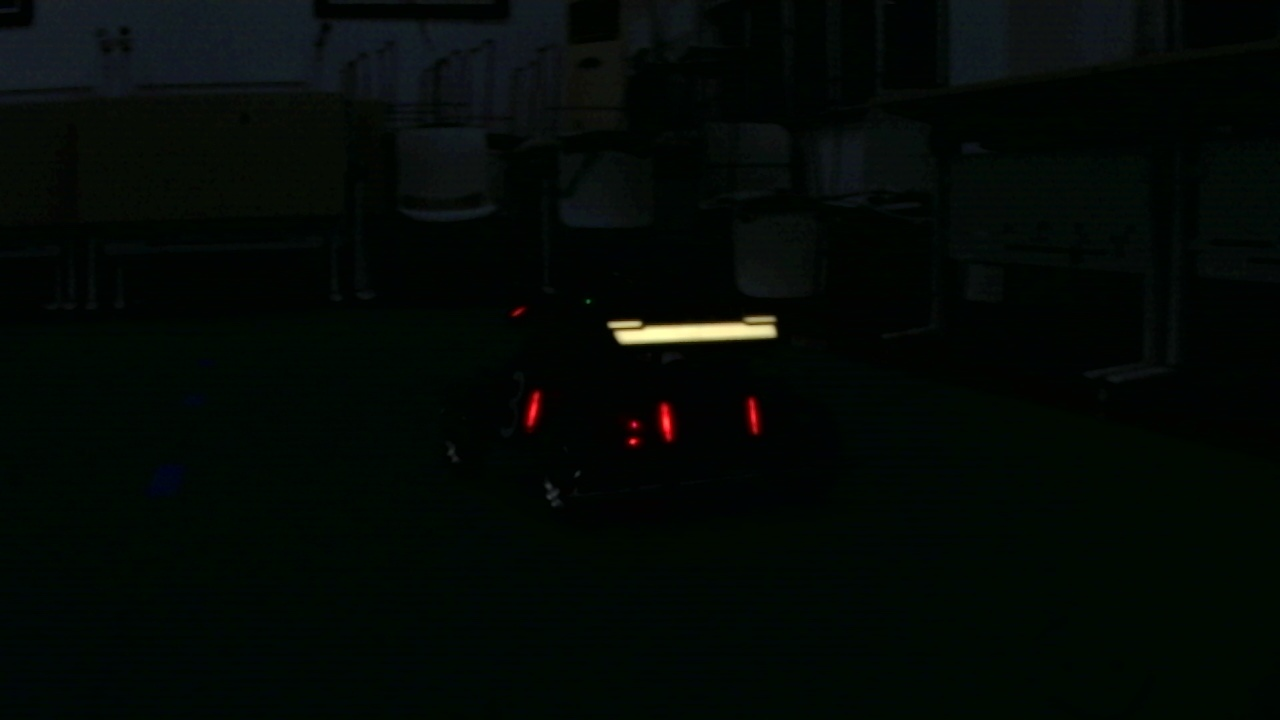lamp: (519, 383, 543, 436), (653, 398, 675, 443), (745, 396, 759, 439)
notpair1: (521, 386, 677, 449)
pair1: (653, 396, 766, 449)
